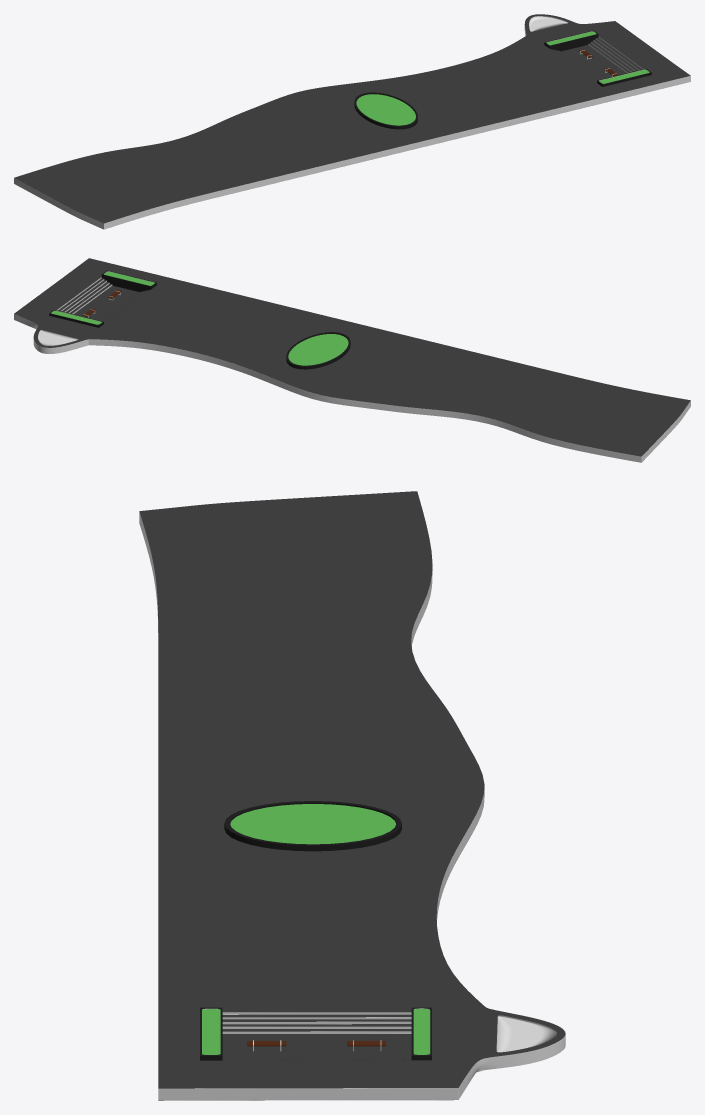
The model's file is bottom_6.fbx.
3 views of the same model, one above another, from view 1: azimuth 30°, elevation 25°; view 2: azimuth 150°, elevation 25°; view 3: azimuth 270°, elevation 25° (orthographic). The views are drawn at different scales.
Visible parts, largest first — view 1: Plane.431, Circle.081; view 2: Plane.431, Circle.081; view 3: Plane.431, Circle.081.
Boxes of the visible parts, x1,y1,x2,y2 form: Plane.431: (14, 14, 690, 229); Circle.081: (354, 92, 417, 129); Plane.431: (14, 258, 690, 462); Circle.081: (286, 332, 350, 369); Plane.431: (139, 491, 565, 1100); Circle.081: (224, 801, 401, 851).
Bounding box in the file's own units: 27576 × 399 × 8315.
